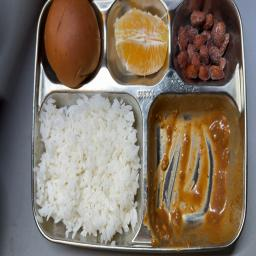100_bread: (44, 0, 102, 89)
100_nuts: (175, 11, 227, 83)
100_orange: (114, 6, 168, 81)
100_rice: (39, 95, 137, 239)
empty: (150, 105, 236, 234)
